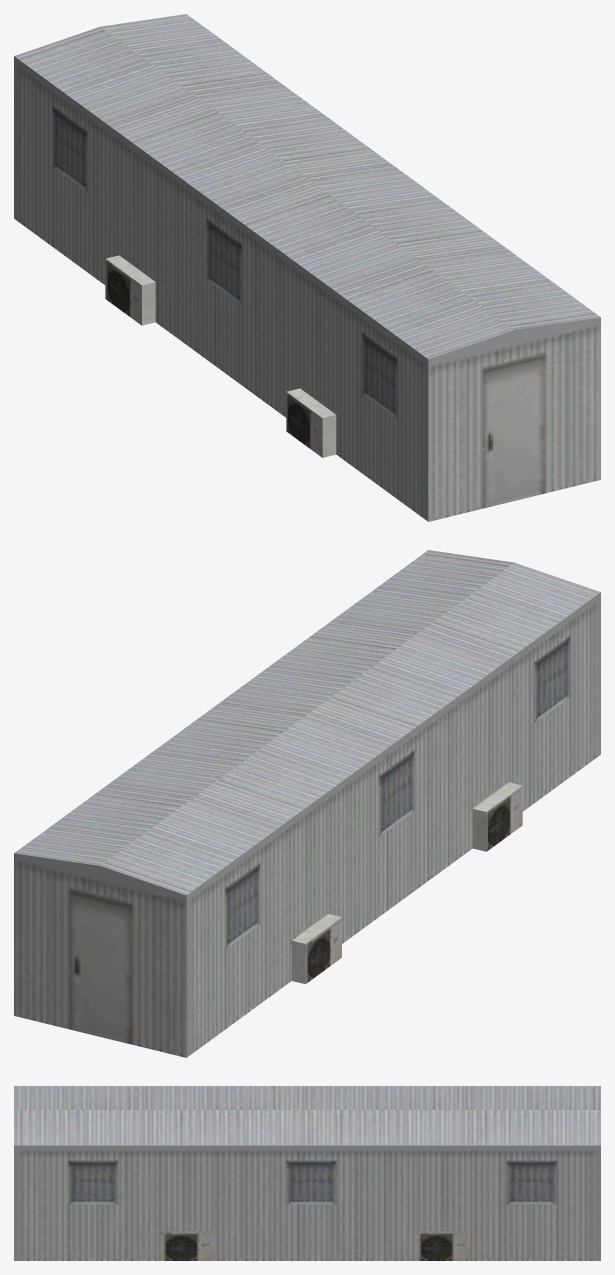
Rendered from 40ftcontainer.gltf.
3 views of the same model, one above another, from view 1: azimuth 30°, elevation 25°; view 2: azimuth 150°, elevation 25°; view 3: azimuth 270°, elevation 25° (orthographic). The views are drawn at different scales.
Parts seen in each view (by area): view 1: node1; view 2: node1; view 3: node1.
Boxes of the visible parts, x1=… form: node1: x1=14, y1=14, x2=600, y2=521; node1: x1=14, y1=550, x2=600, y2=1057; node1: x1=14, y1=1086, x2=600, y2=1260.
Bounding box in the file's own units: 3.24 × 2.84 × 12.48.
